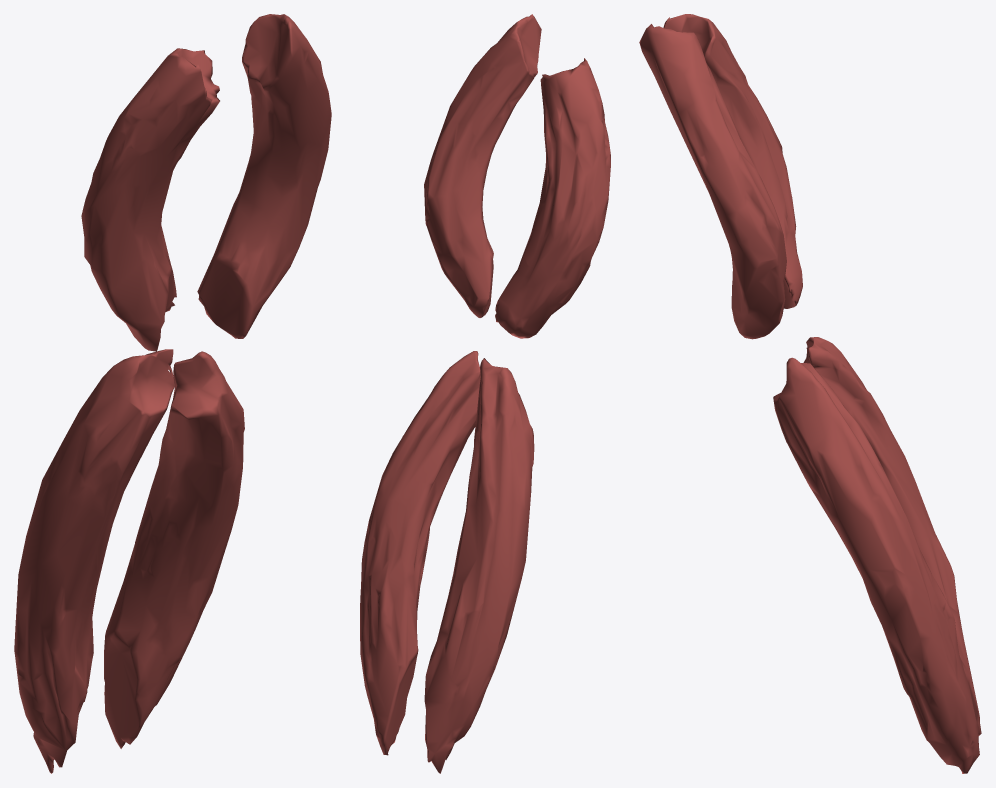
The model's file is FMA71308.glb.
3 renders of one model, left to right at view 1: azimuth 30°, elevation 25°; view 2: azimuth 150°, elevation 25°; view 3: azimuth 270°, elevation 25°, orthographic. The views are drawn at different scales.
Visible parts, largest first — view 1: FMA71308; view 2: FMA71308; view 3: FMA71308.
Boxes of the visible parts, x1,y1,x2,y2 form: FMA71308: (14,14,331,773); FMA71308: (360,14,610,773); FMA71308: (639,14,981,773).
Bounding box in the file's own units: 0.0127 × 0.0454 × 0.0187.
